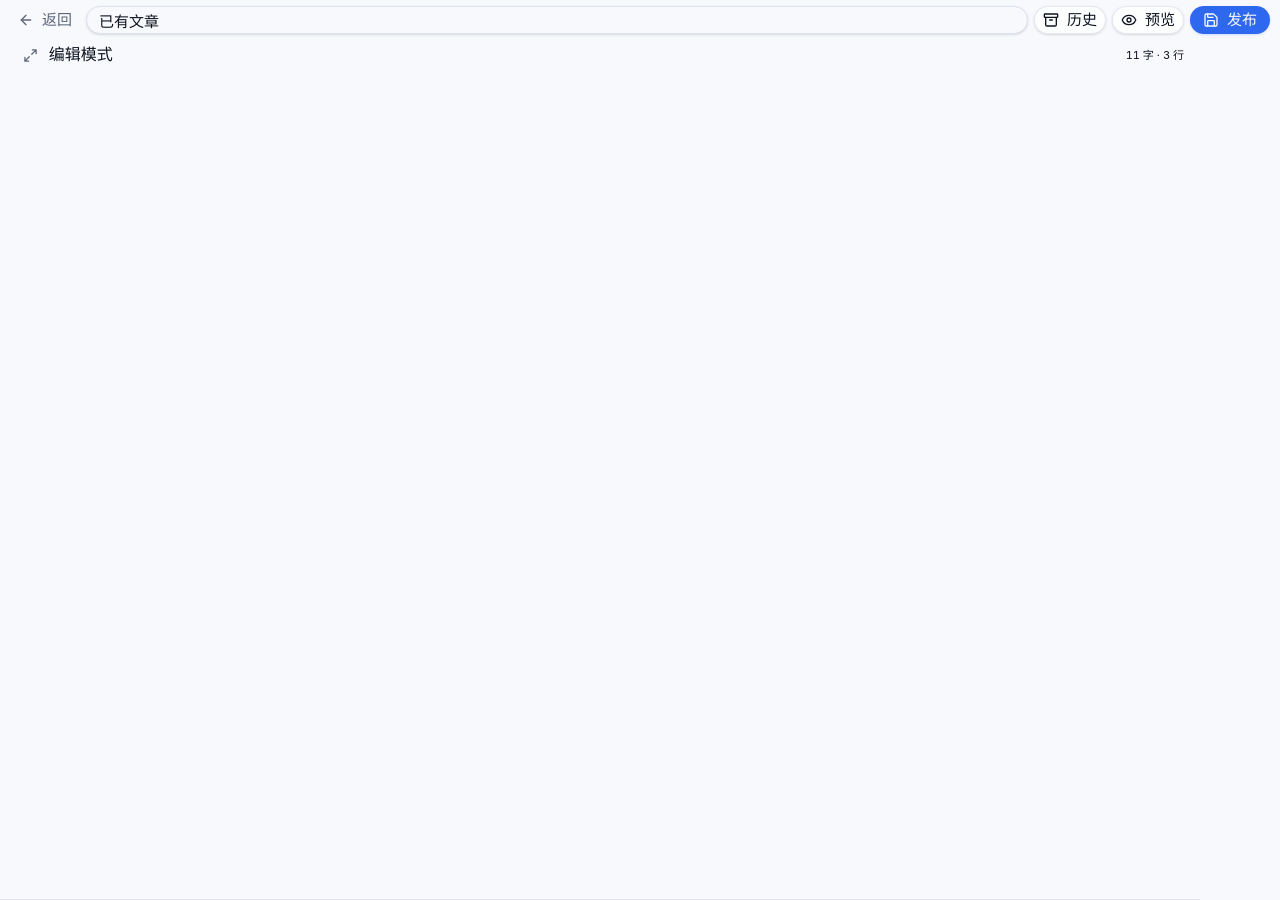
Scenario: BlogEditor 核心回归 › 恢复前存在未保存修改时会提示，并允许放弃修改后恢复
The image size is (1280, 900).
Type "（未保存修改）" into the field with placeholder "输入文章标题...".
click(557, 20); type("（未保存修改）")  # box [86,6,1028,34]
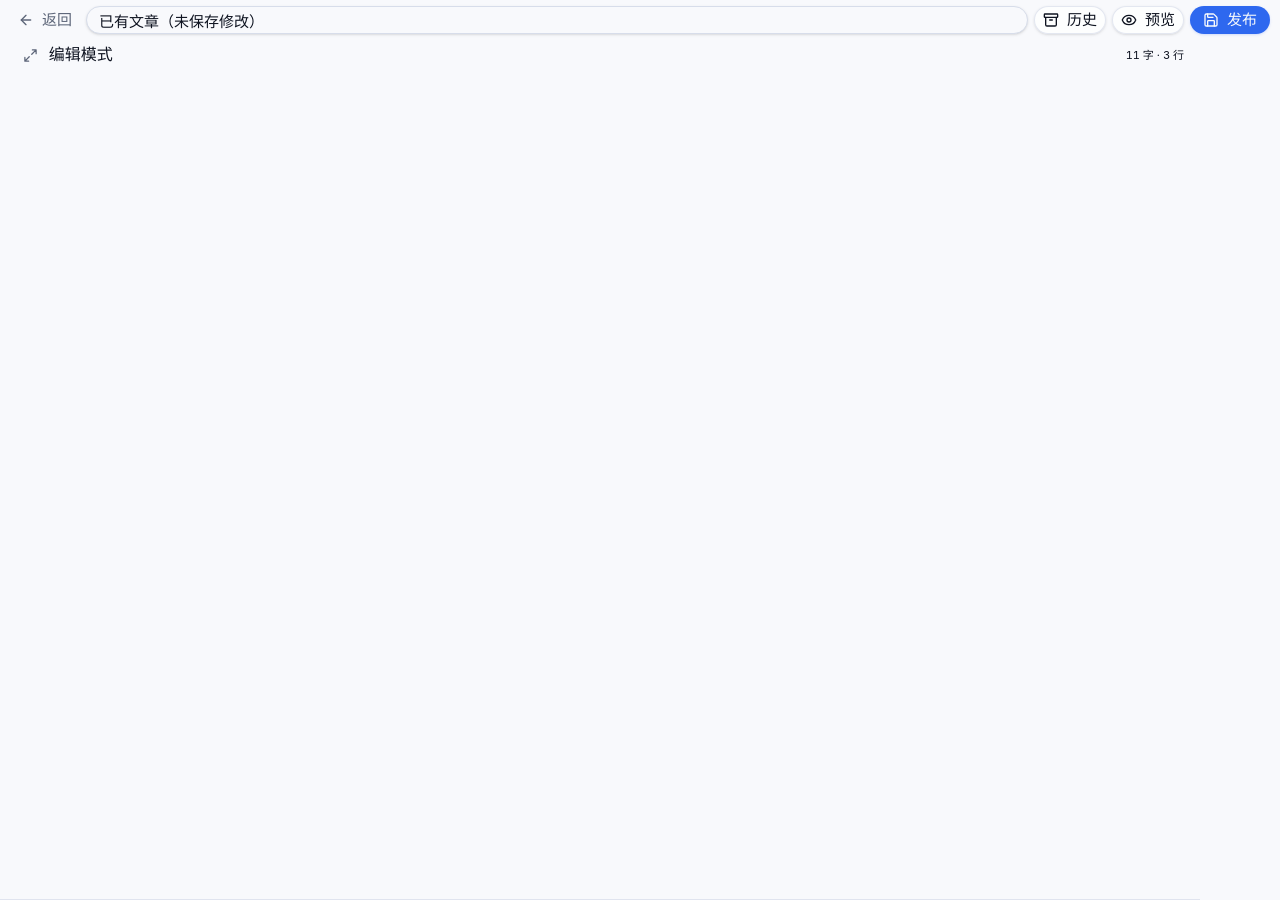
Click the button "历史".
click(1070, 20)  # box [1034,6,1106,34]
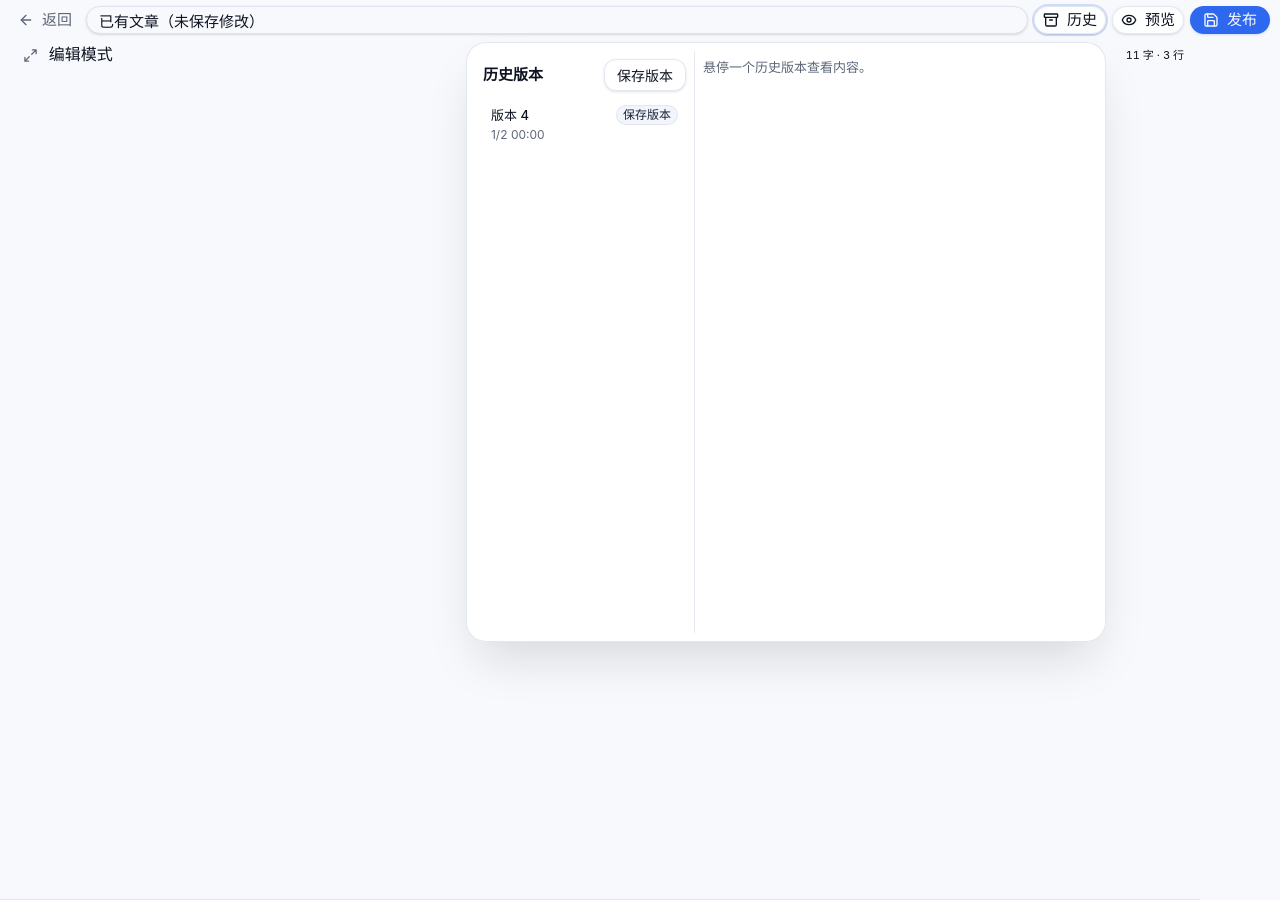
Hover over the button "版本 4 保存版本 1/2 00:00".
mouse_move(584, 124)  # box [483,99,686,148]
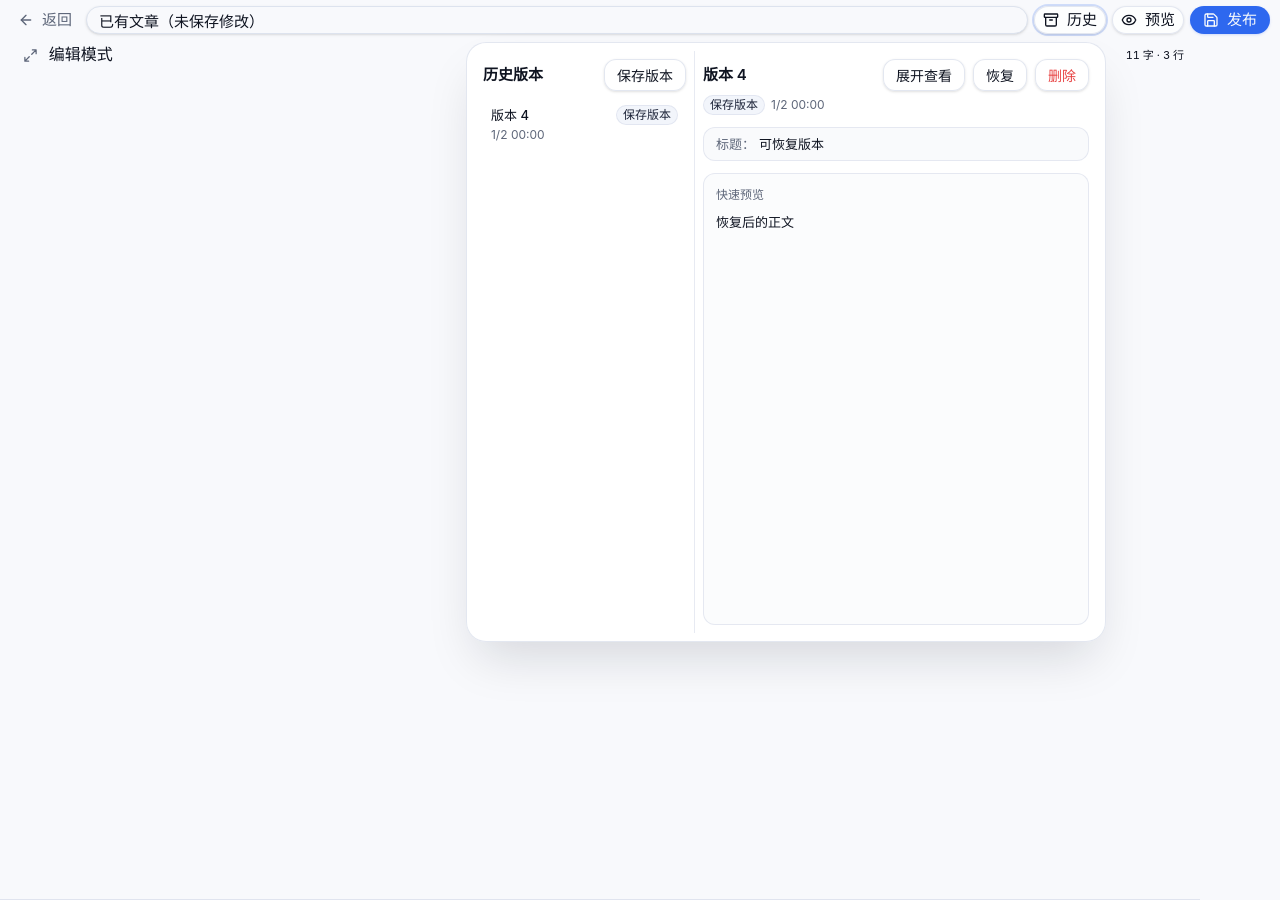
Click the button "恢复".
click(1000, 75)  # box [973,59,1027,91]
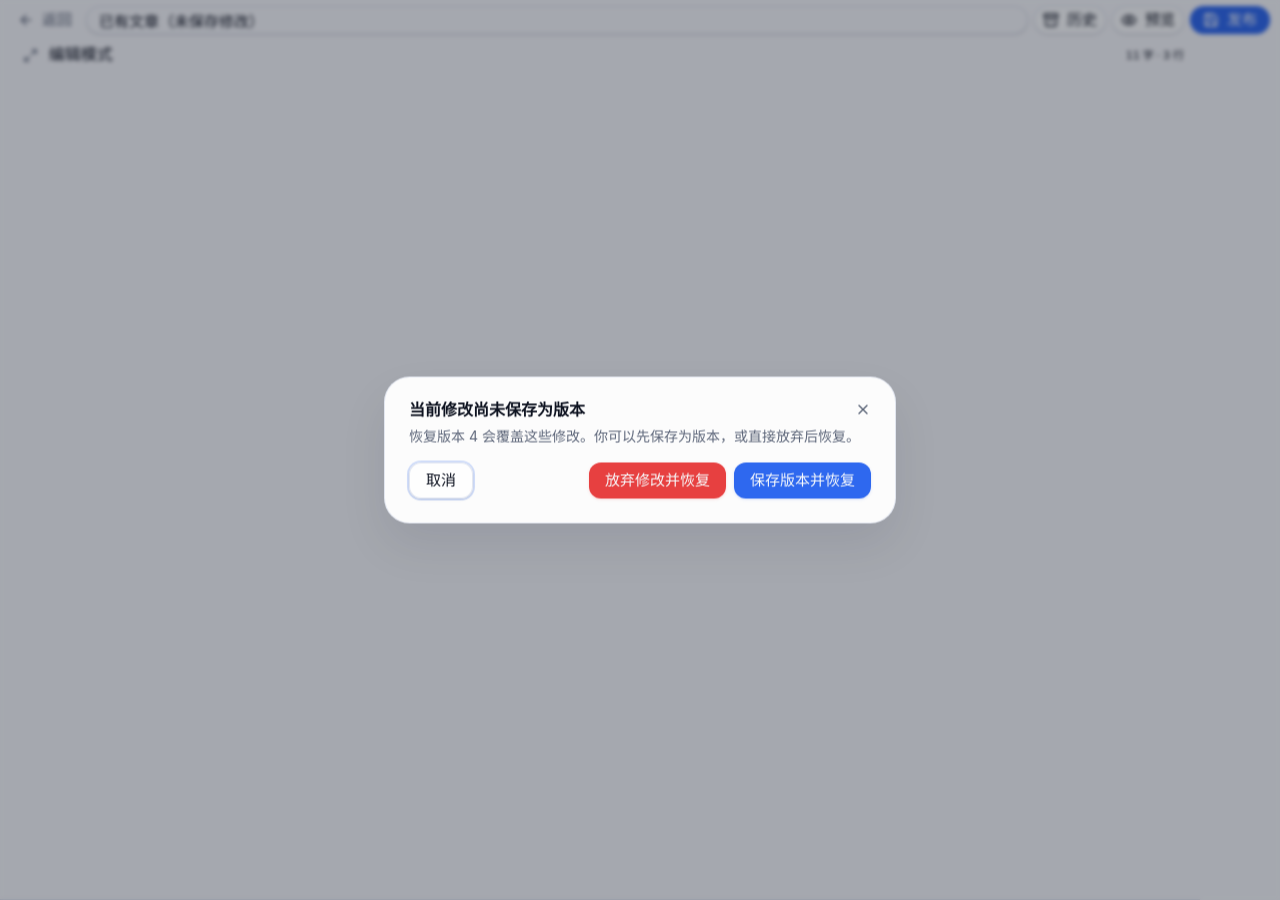
Check: the dialog "当前修改尚未保存为版本" shows "版本 4", box [384,376,896,524]
Check: the button "展开查看" is gone
Click the button "放弃修改并恢复".
click(658, 480)  # box [589,462,726,498]
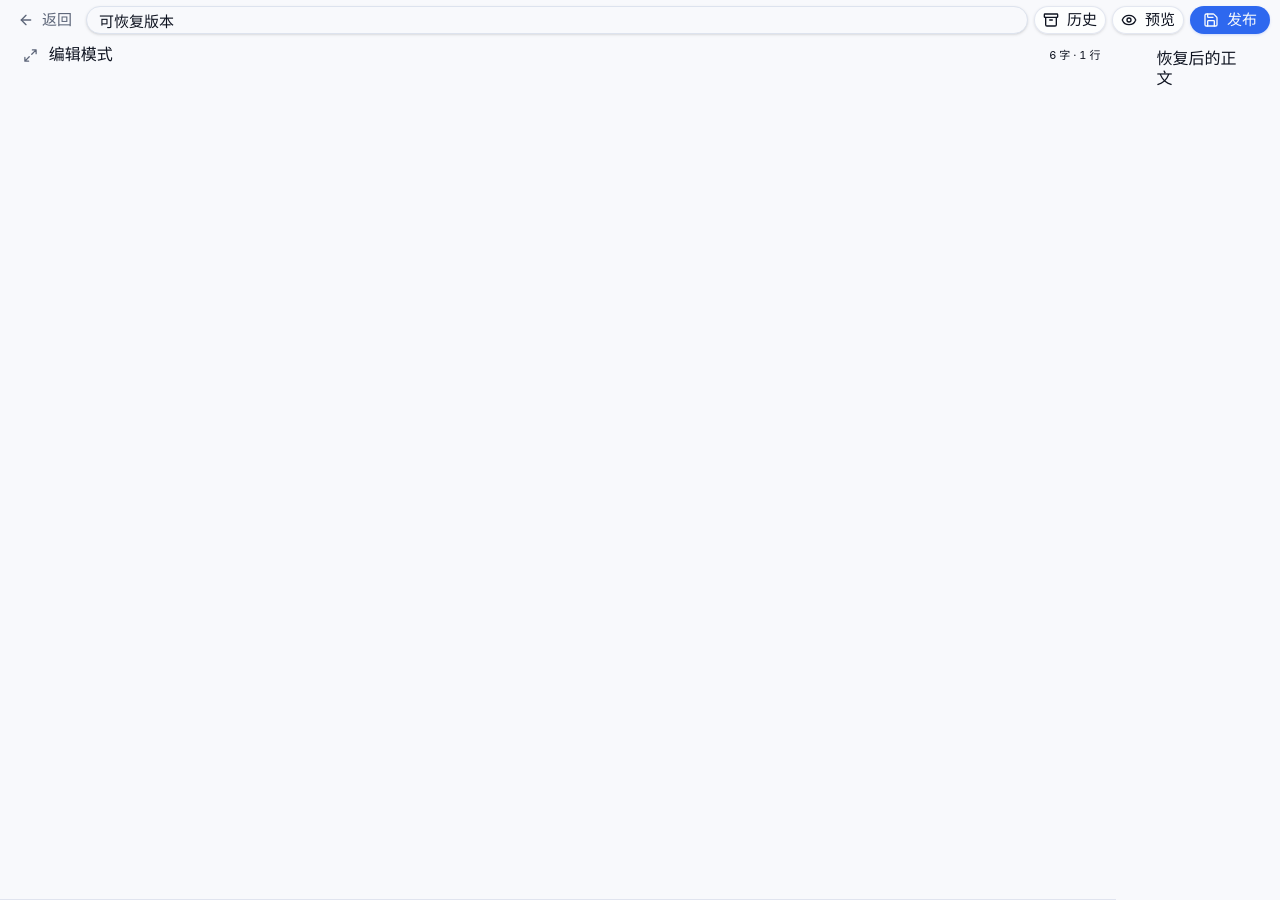
Check: the field with placeholder "输入文章标题..." holds "可恢复版本", box [86,6,1028,34]
